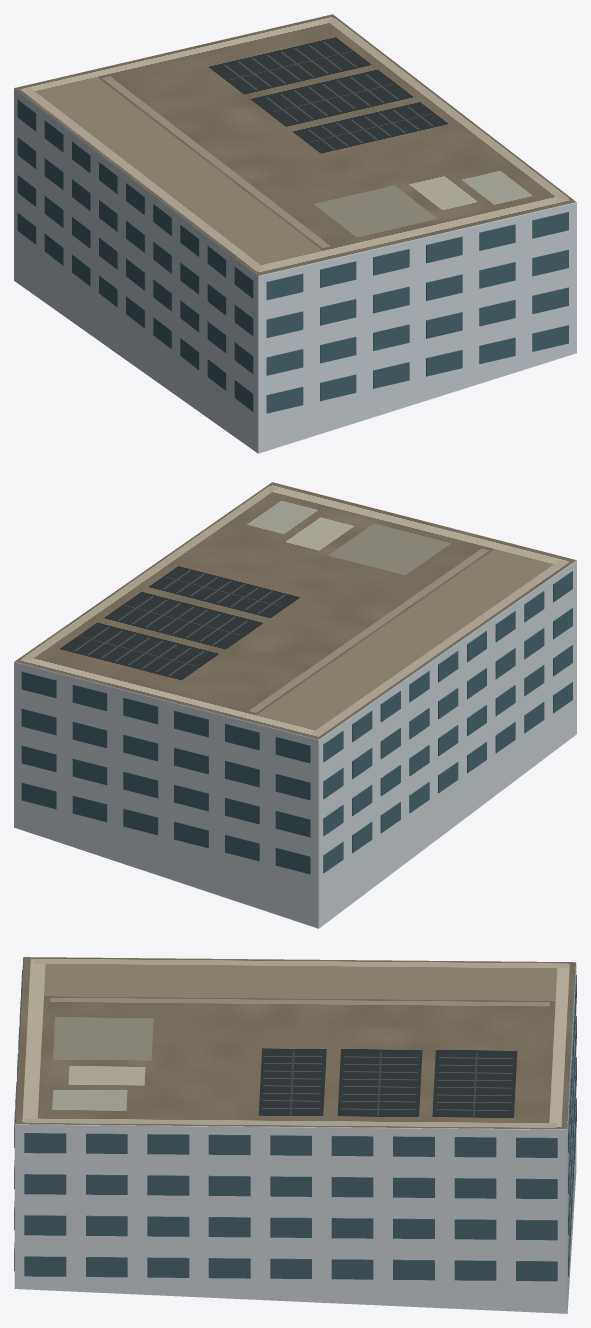
File: intact.glb
The picture shows the model from 3 angles, top to bottom: view 1: azimuth 30°, elevation 25°; view 2: azimuth 150°, elevation 25°; view 3: azimuth 270°, elevation 25°; orthographic projection. The views are drawn at different scales.
Parts seen in each view (by area): view 1: SM_pp-structural_Intact_00, SM_pp-structural_Intact_01; view 2: SM_pp-structural_Intact_00, SM_pp-structural_Intact_01; view 3: SM_pp-structural_Intact_00, SM_pp-structural_Intact_01.
Boxes of the visible parts, <box> form: SM_pp-structural_Intact_00: <box>14,14,576,453</box>; SM_pp-structural_Intact_01: <box>17,99,568,413</box>; SM_pp-structural_Intact_00: <box>14,482,576,928</box>; SM_pp-structural_Intact_01: <box>21,571,572,874</box>; SM_pp-structural_Intact_00: <box>14,957,576,1313</box>; SM_pp-structural_Intact_01: <box>14,970,576,1281</box>.
Bounding box in the file's own units: 1.6 × 0.9062 × 2.2.
4 materials, 1 textured.
